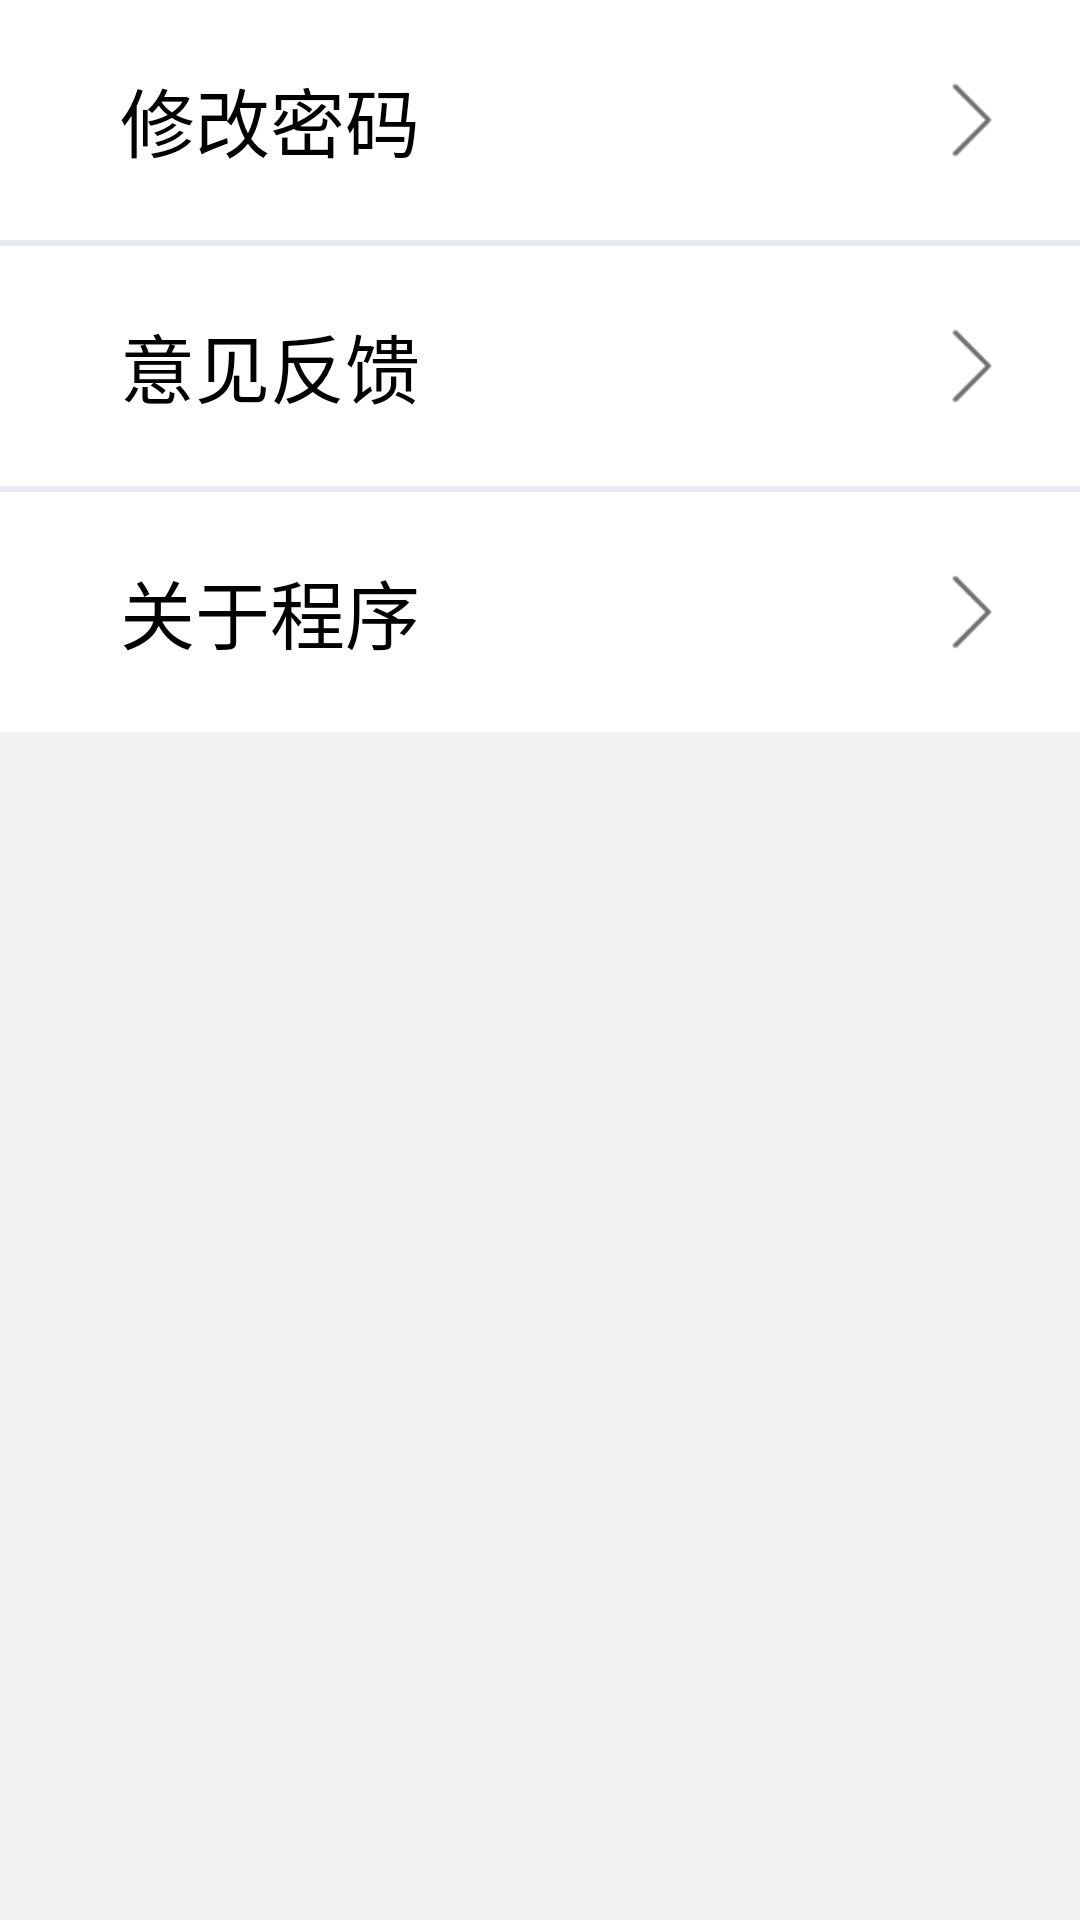

Point at icon controls on the screen. Image size 1080px×1920px, points as (x,y).
arrow right: (972,120), (972,366), (972,612)
